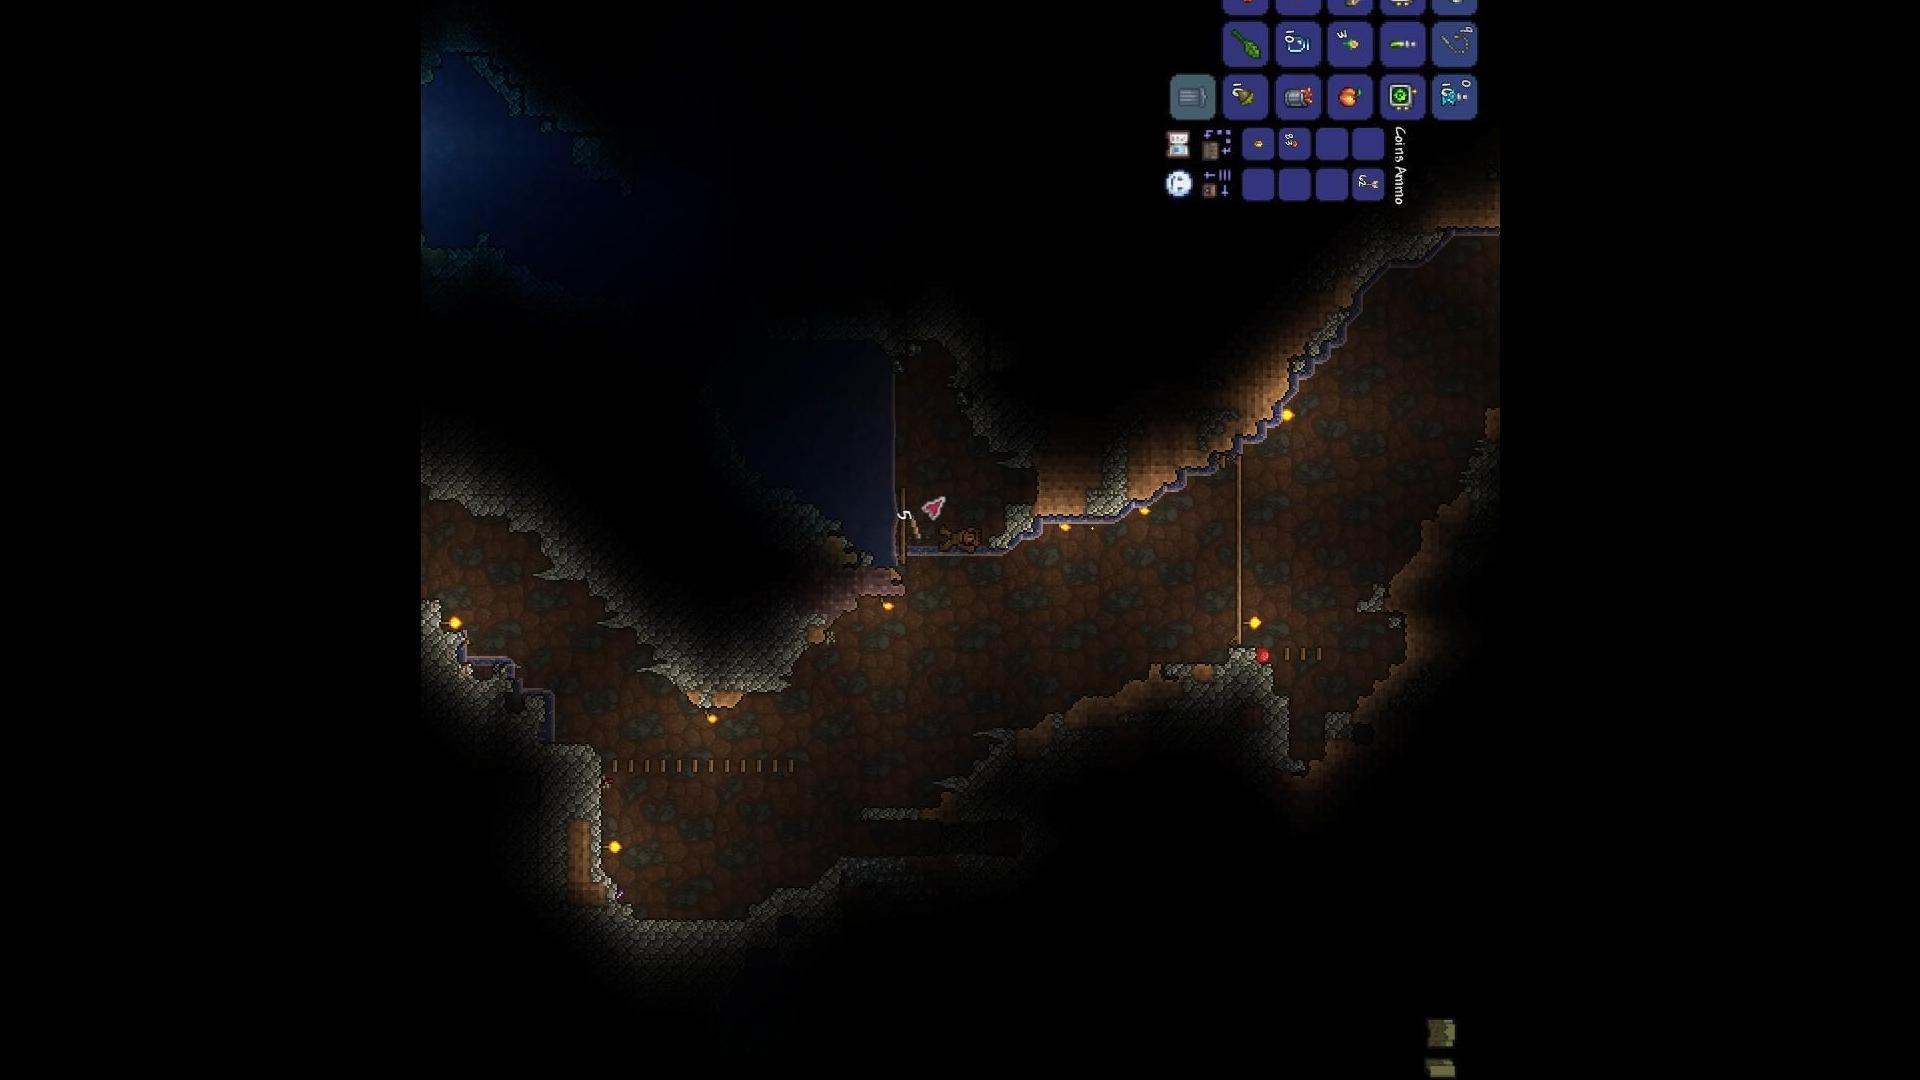bar: (1338, 0, 1367, 7)
platform: (786, 754, 800, 775), (1298, 645, 1309, 667), (702, 758, 716, 775), (740, 756, 752, 775), (687, 760, 699, 778), (608, 758, 621, 774), (659, 758, 671, 775), (626, 757, 637, 775), (1315, 646, 1327, 662), (769, 760, 781, 775), (1282, 646, 1292, 663), (674, 760, 684, 775), (642, 760, 651, 777), (756, 758, 764, 775), (723, 760, 731, 777)
recallP: (1440, 88, 1469, 107)
